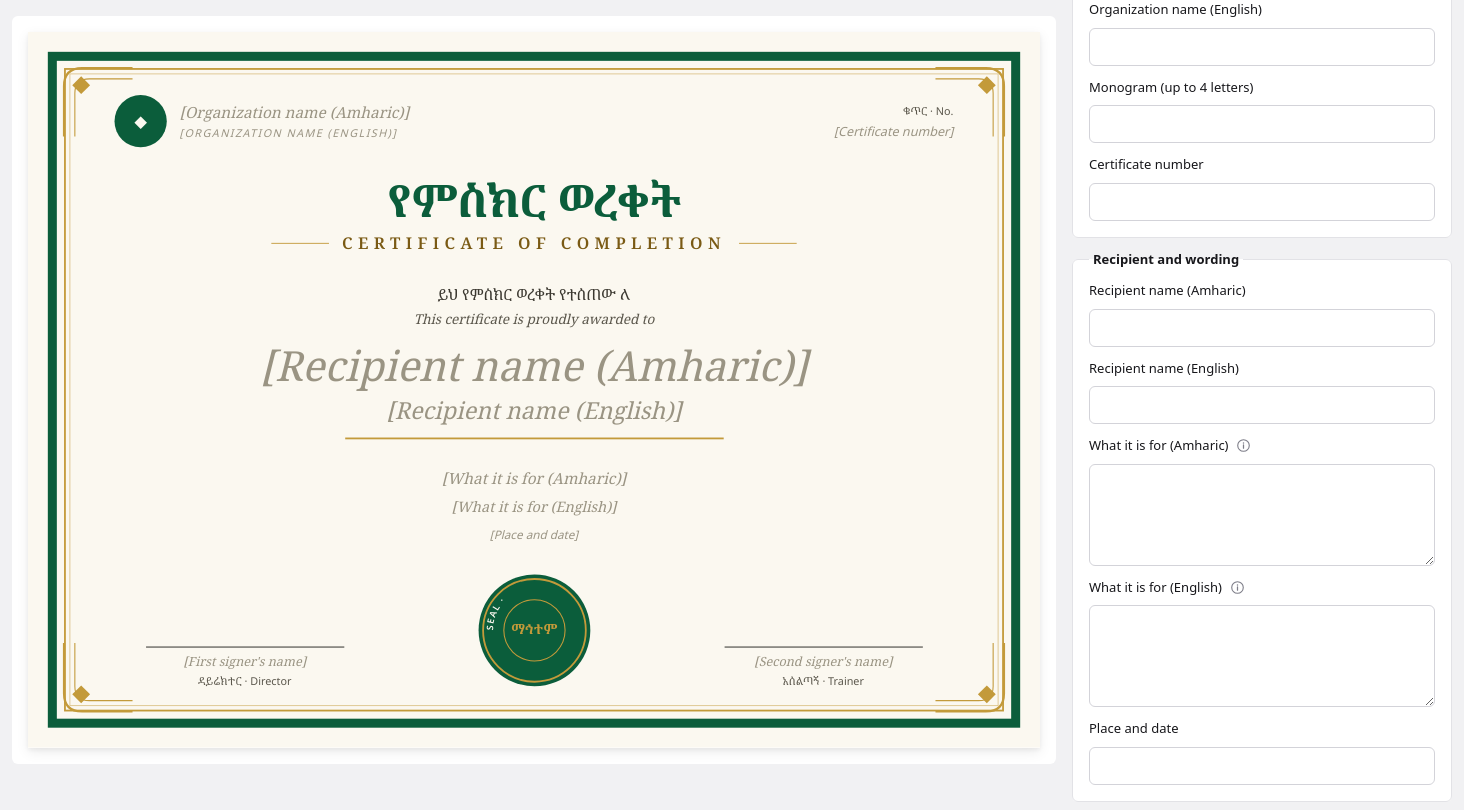
Test: DesignWorkspace › shows typed details on the page and saves them automatically
(page scrolled)
Type "Dawit Haile" into the field labelled "Recipient name (English)" at (1262, 405), box [1089, 386, 1435, 424]
(page scrolled)
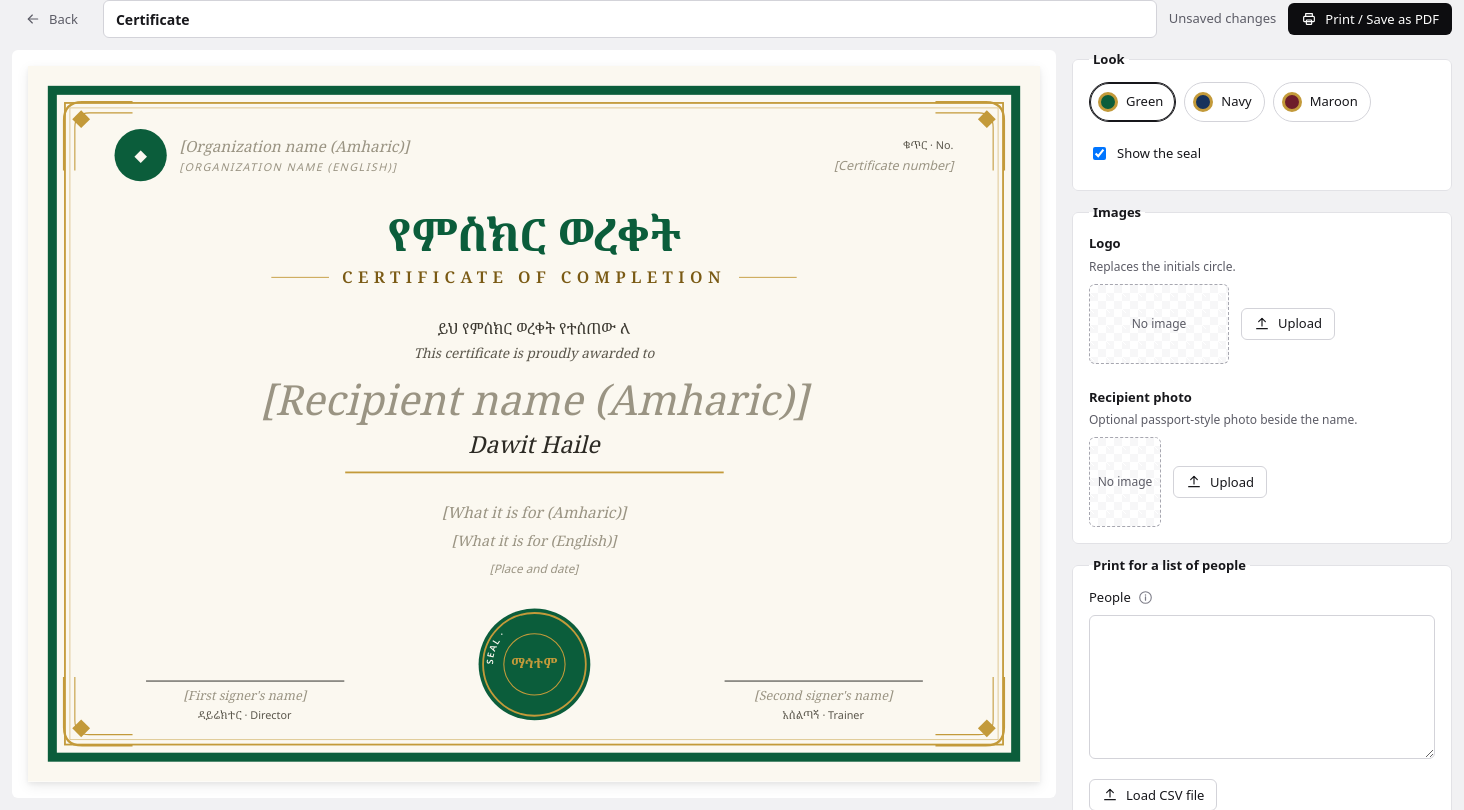
Click the radio button labelled "Maroon" at (1322, 102), box [1273, 82, 1371, 122]
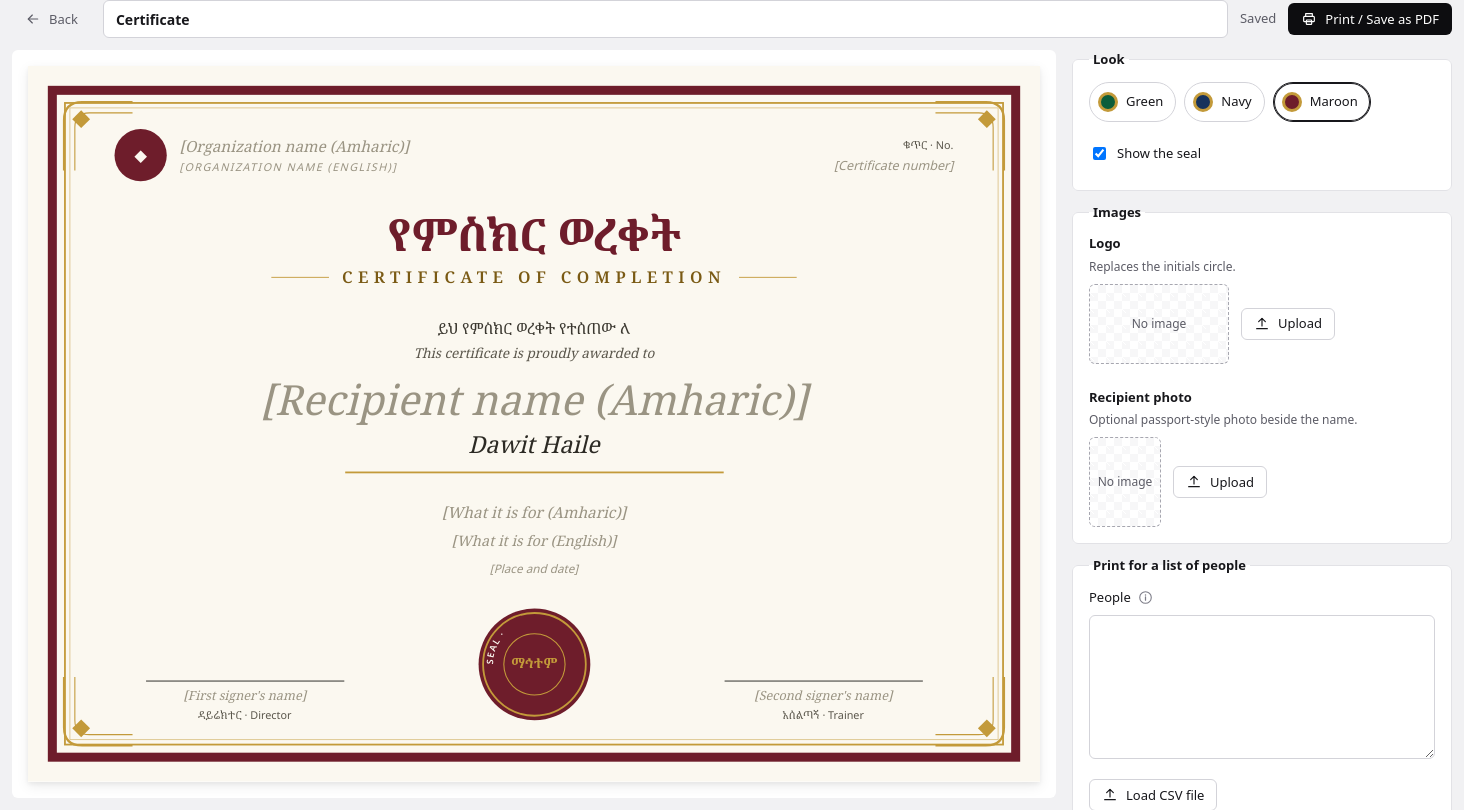
Expected: the text "Dawit Haile" is shown, [468, 427, 600, 462]
Expected: the message with test id "design-save-status" reads "Saved", [1240, 9, 1276, 27]
